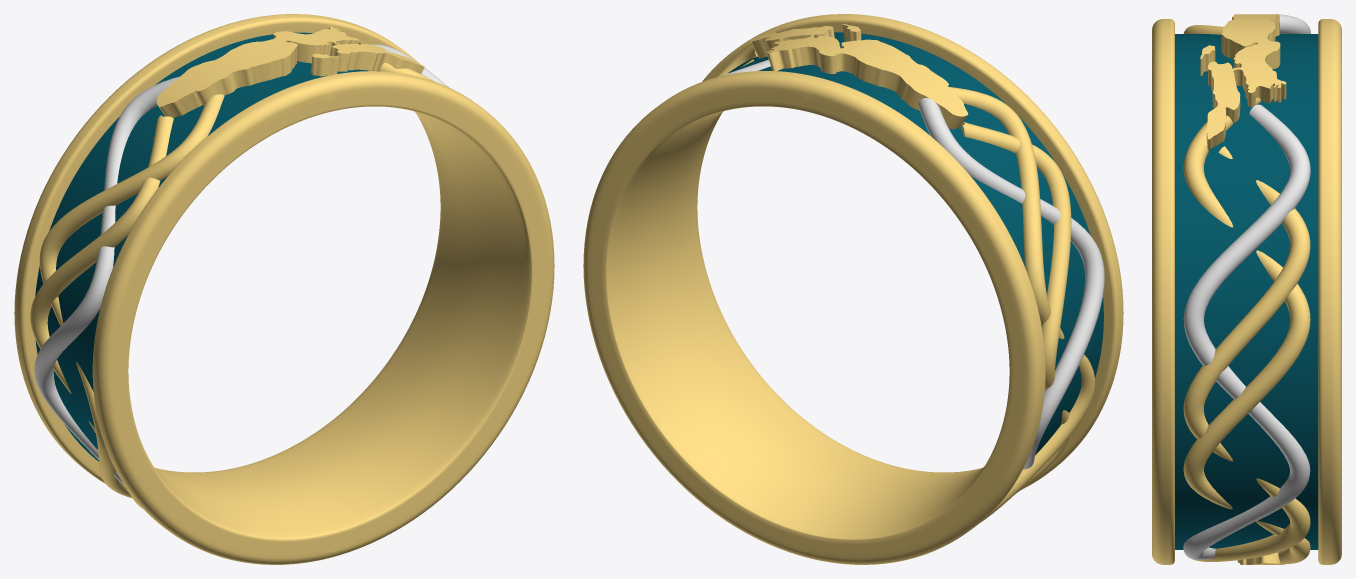
The model's file is SaraYGnewJamestown_blender.glb.
3 views of the same model, side by side, from view 1: azimuth 30°, elevation 25°; view 2: azimuth 150°, elevation 25°; view 3: azimuth 270°, elevation 25° (orthographic). The views are drawn at different scales.
Visible parts, largest first — view 1: V2 Sara YG for 3d model, Sara black for 3d model, V2 Sara PT vine for 3d model; view 2: V2 Sara YG for 3d model, Sara black for 3d model, V2 Sara PT vine for 3d model; view 3: V2 Sara YG for 3d model, Sara black for 3d model, V2 Sara PT vine for 3d model.
Part boxes in pixels (bbox=[...]): V2 Sara YG for 3d model: bbox=[14, 14, 554, 564]; Sara black for 3d model: bbox=[35, 32, 379, 461]; V2 Sara PT vine for 3d model: bbox=[34, 44, 448, 486]; V2 Sara YG for 3d model: bbox=[583, 14, 1123, 564]; Sara black for 3d model: bbox=[728, 32, 1103, 454]; V2 Sara PT vine for 3d model: bbox=[719, 59, 1104, 469]; V2 Sara YG for 3d model: bbox=[1152, 14, 1341, 564]; Sara black for 3d model: bbox=[1175, 34, 1318, 549]; V2 Sara PT vine for 3d model: bbox=[1183, 14, 1310, 559].
Size of the model in its own units: 24.73 by 24.67 by 8.5.
